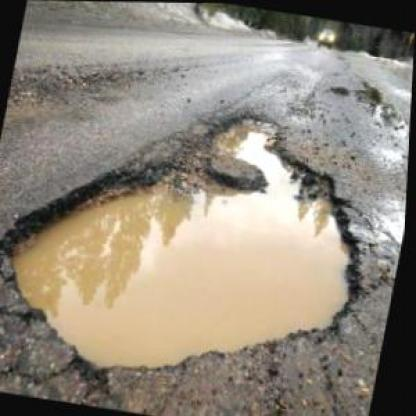pothole: (0, 73, 398, 412)
